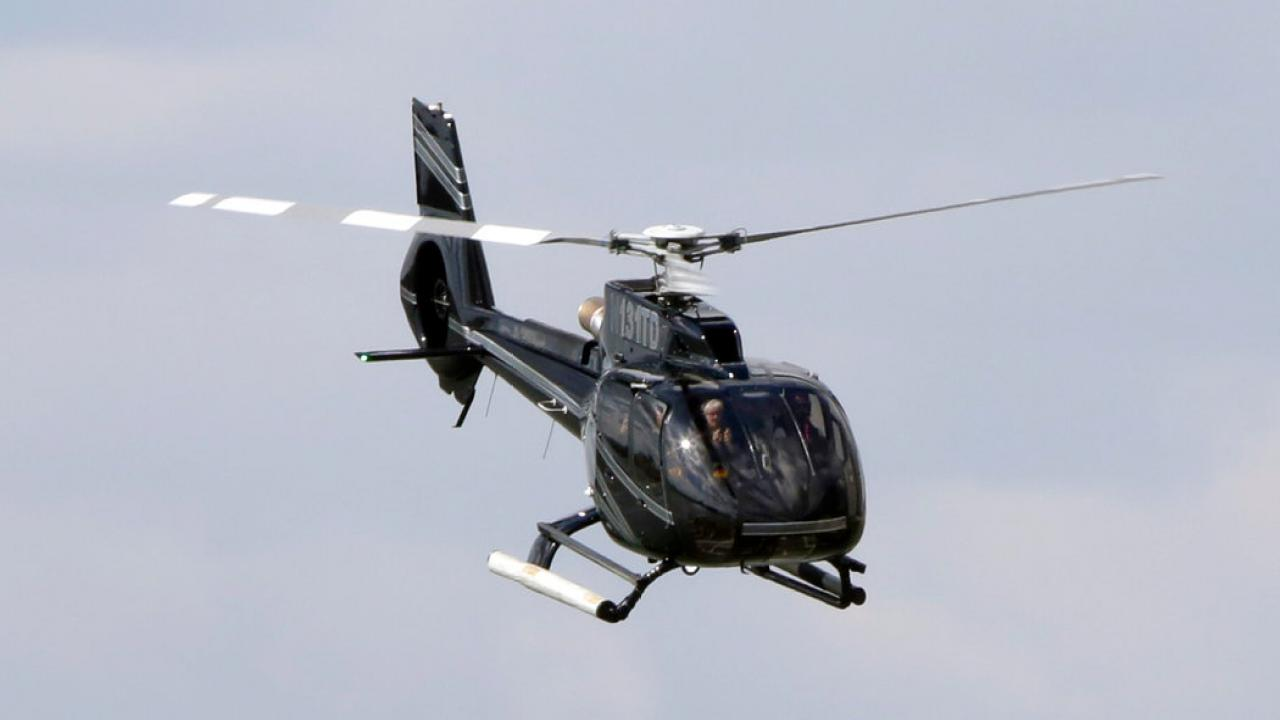Helicopter: (159, 92, 1173, 630)
